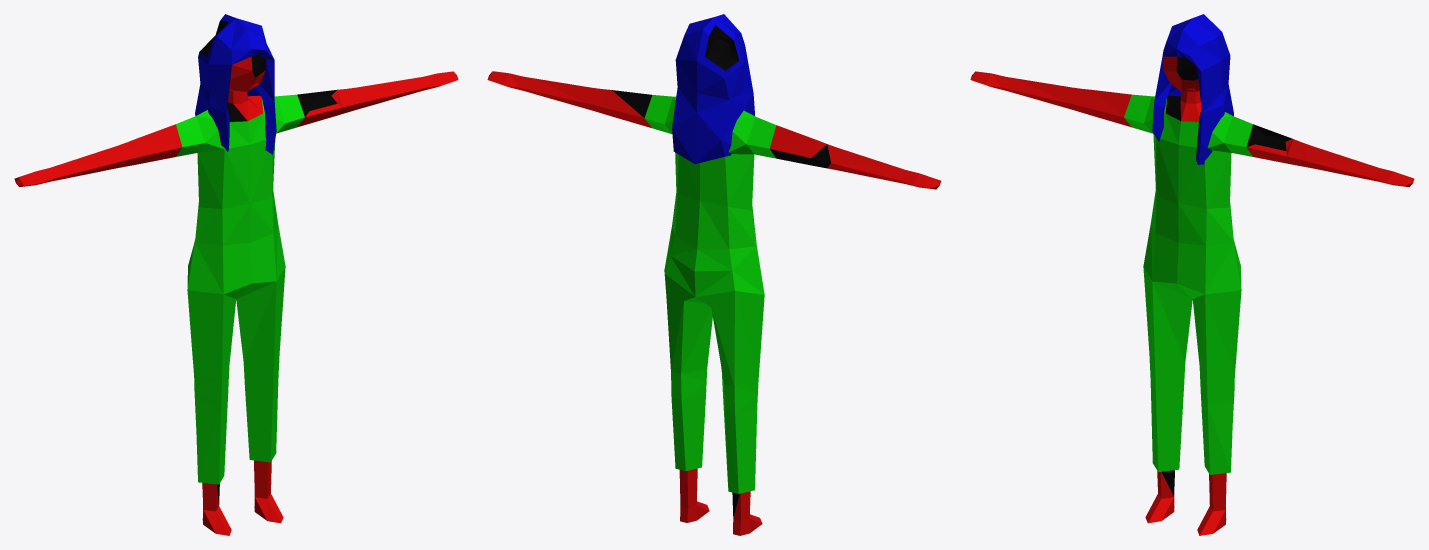
Rendered from Zombies_Female_Adult_NoArmature.fbx.
3 views of the same model, side by side, from view 1: azimuth 30°, elevation 25°; view 2: azimuth 150°, elevation 25°; view 3: azimuth 330°, elevation 25° (orthographic). The views are drawn at different scales.
Parts seen in each view (by area): view 1: Female_Adult; view 2: Female_Adult; view 3: Female_Adult.
Part boxes in pixels (<box>): Female_Adult: <box>14,14,458,535</box>; Female_Adult: <box>487,14,941,535</box>; Female_Adult: <box>970,14,1414,535</box>.
Bounding box in the file's own units: 143 × 154 × 21.49.
